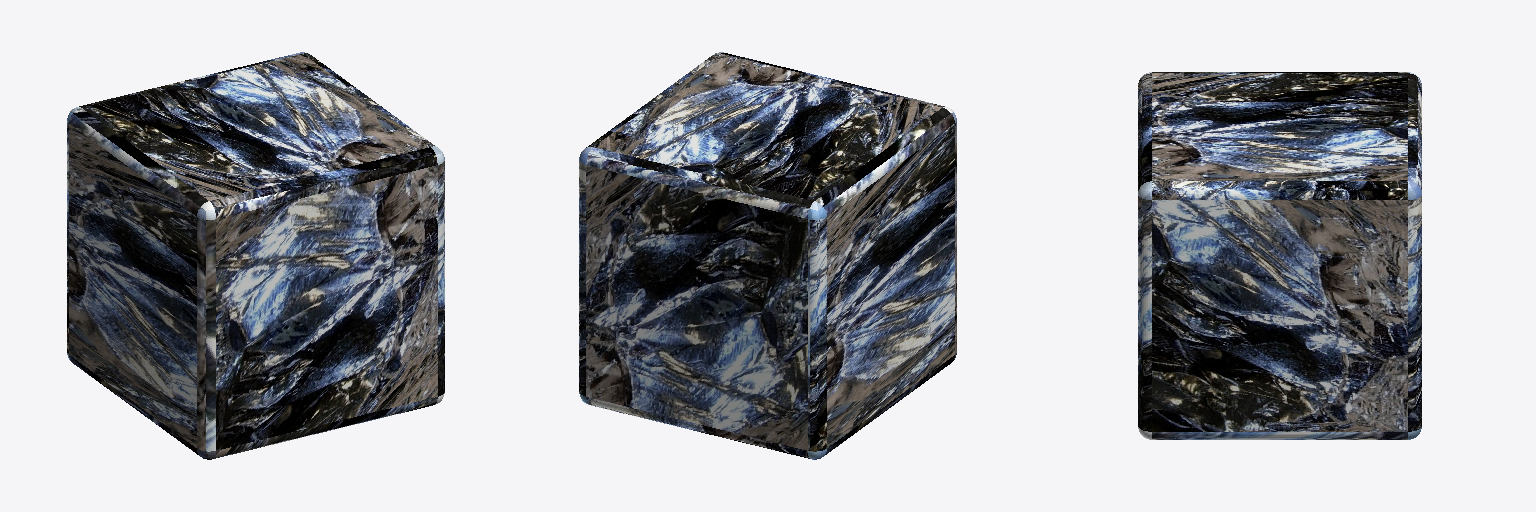
3 renders of one model, left to right at view 1: azimuth 30°, elevation 25°; view 2: azimuth 150°, elevation 25°; view 3: azimuth 270°, elevation 25°, orthographic.
Visible parts, largest first — view 1: Cube; view 2: Cube; view 3: Cube.
Boxes of the visible parts, x1=… form: Cube: x1=67, y1=52, x2=444, y2=459; Cube: x1=579, y1=52, x2=956, y2=459; Cube: x1=1138, y1=72, x2=1421, y2=439.
Size of the model in its own units: 2 by 2 by 2.
Materials: 1 (1 with a texture image).